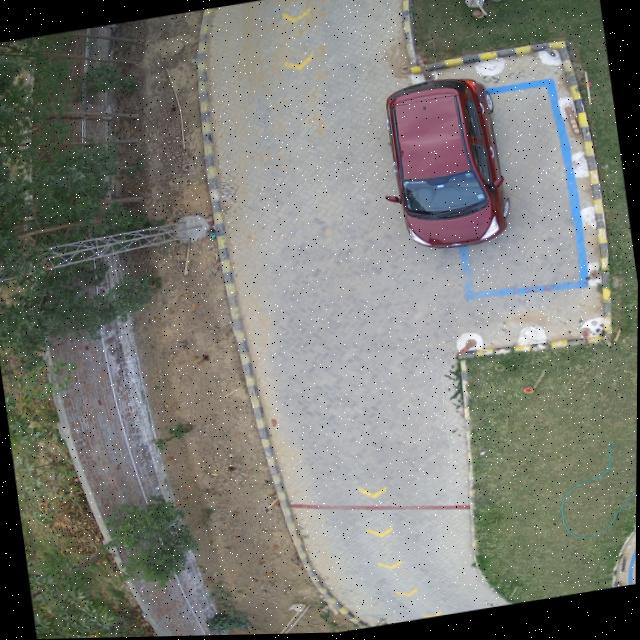car: (386, 80, 510, 250)
